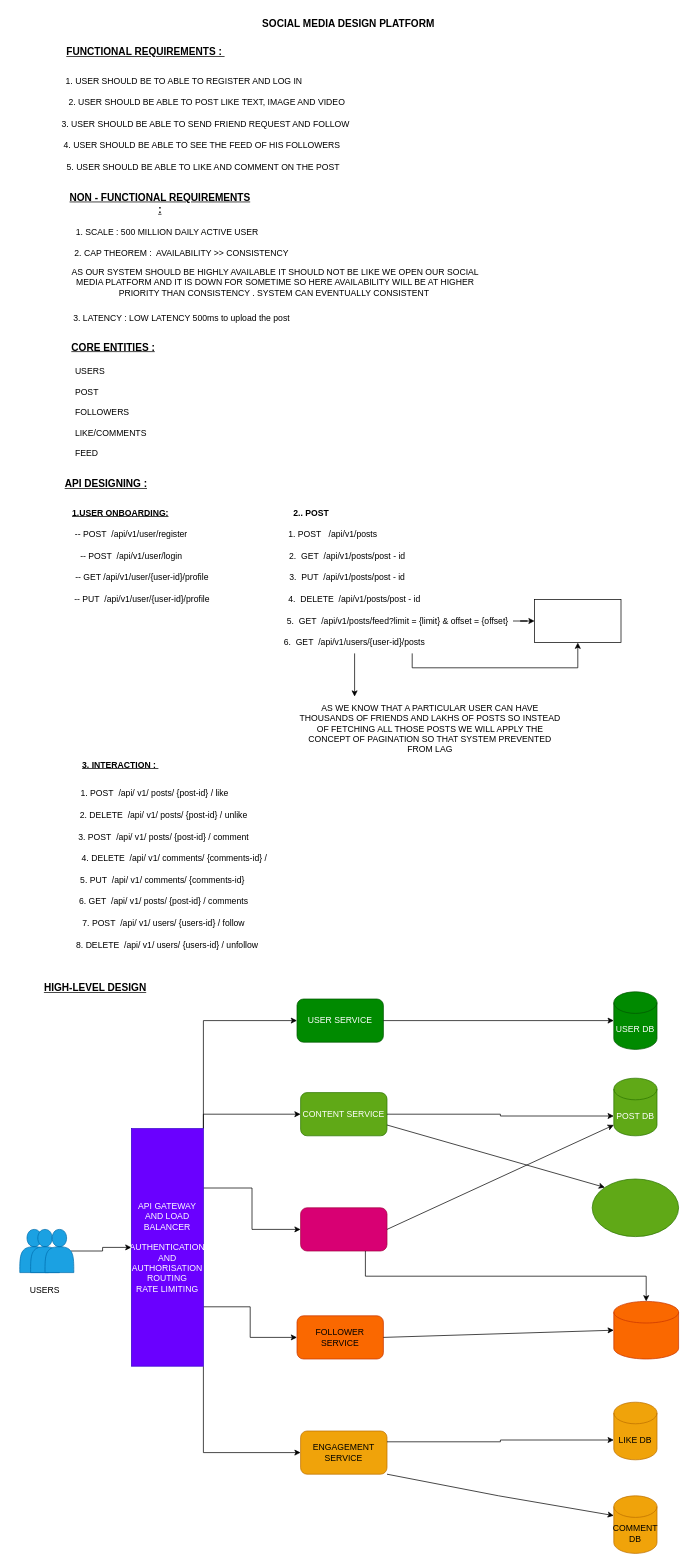
This 691x1566 diagram has some shape labels left out. The box of each missing label's shape, as (x1, y1, x2, y2) in pixels:
FEED SERVICE: (300, 1207, 387, 1251)
FOLLOWER DB: (613, 1301, 679, 1359)
PAGINATION: (534, 599, 621, 643)
S3 STORAGE: (591, 1178, 679, 1237)
